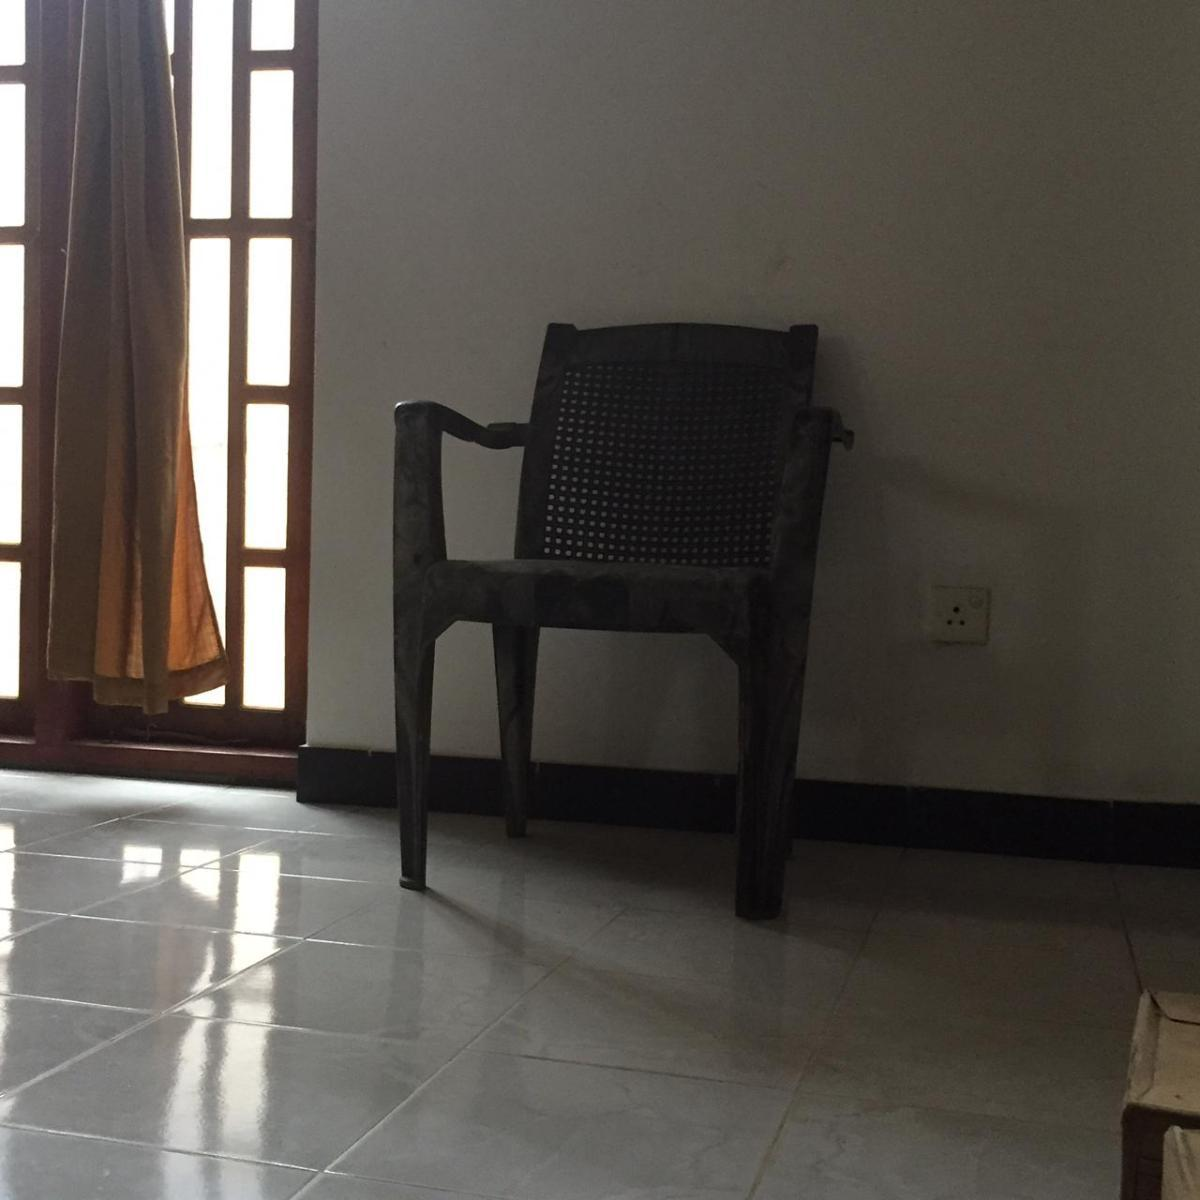Chair: (388, 318, 856, 927)
